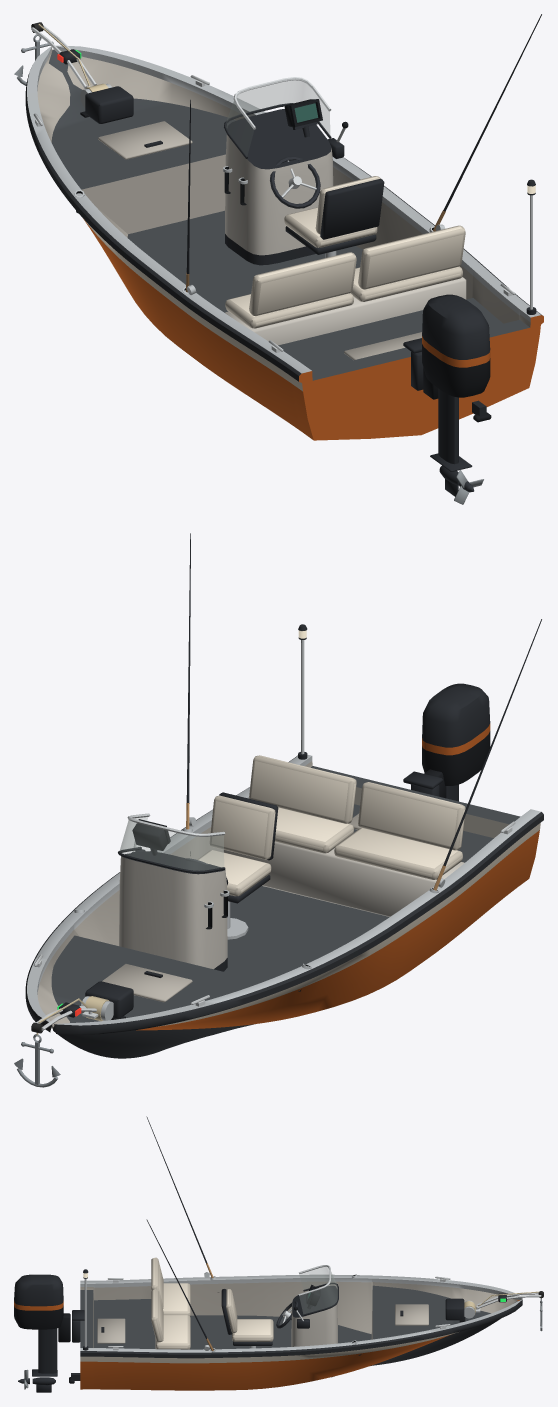
The picture shows the model from 3 angles, top to bottom: view 1: azimuth 30°, elevation 25°; view 2: azimuth 150°, elevation 25°; view 3: azimuth 270°, elevation 25°; orthographic projection. The views are drawn at different scales.
Parts seen in each view (by area): view 1: volzhanka_body, motor, rods, steering_wheel; view 2: volzhanka_body, motor, rods, anchor; view 3: volzhanka_body, motor, rods.
Part boxes in pixels (x1,y1,x2,y2): volzhanka_body: (25,22,543,440); motor: (422,294,490,496); rods: (186,14,541,295); steering_wheel: (270,156,320,208); volzhanka_body: (25,624,543,1058); motor: (422,683,490,801); rods: (186,533,541,890); anchor: (14,1034,60,1087); volzhanka_body: (69,1257,543,1390); motor: (14,1274,70,1392); rods: (146,1116,213,1351).
Bounding box in the file's own units: 2.59 × 2.64 × 5.63.
